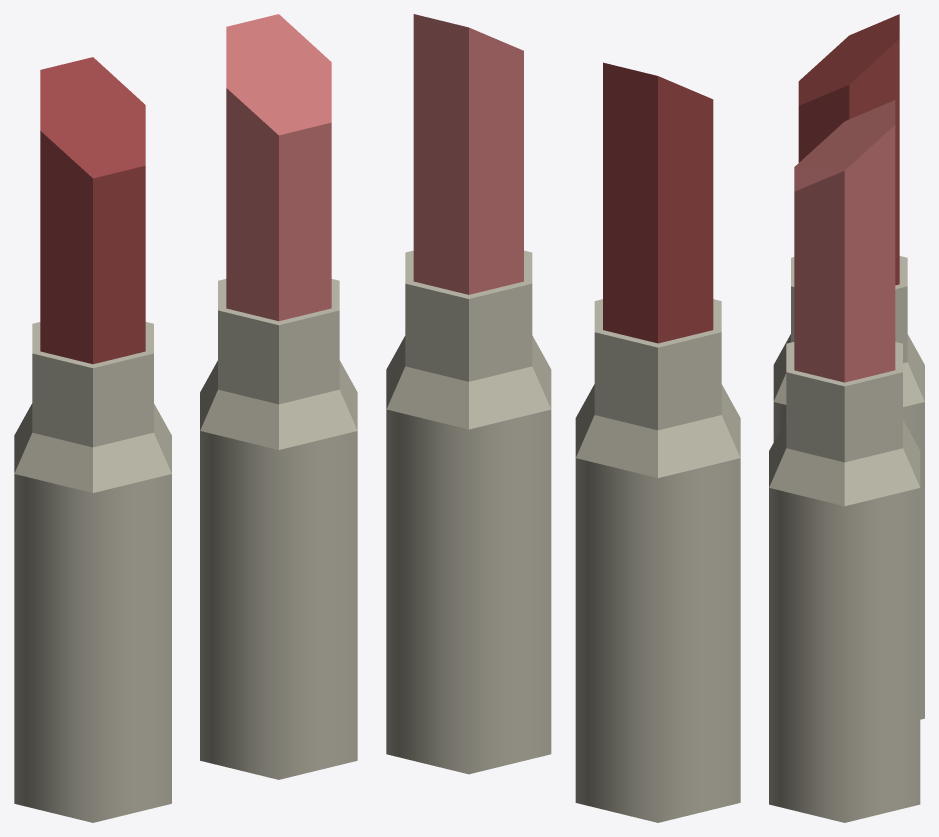
Rendered from Lipstick.FBX.
3 views of the same model, side by side, from view 1: azimuth 30°, elevation 25°; view 2: azimuth 150°, elevation 25°; view 3: azimuth 270°, elevation 25° (orthographic). The views are drawn at different scales.
Parts seen in each view (by area): view 1: Cylinder001, Cylinder005; view 2: Cylinder005, Cylinder001; view 3: Cylinder005, Cylinder001.
Part boxes in pixels (x1=…): Cylinder001: x1=14, y1=57, x2=171, y2=822; Cylinder005: x1=200, y1=14, x2=357, y2=779; Cylinder005: x1=386, y1=14, x2=551, y2=774; Cylinder001: x1=575, y1=62, x2=740, y2=822; Cylinder005: x1=769, y1=100, x2=920, y2=822; Cylinder001: x1=773, y1=14, x2=924, y2=719.
Bounding box in the file's own units: 43.28 × 85.11 × 17.84.
